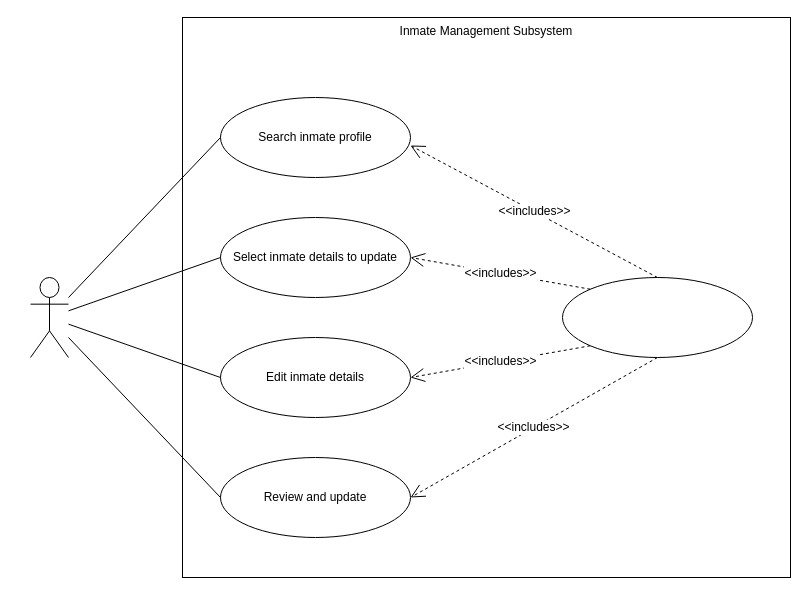
Some shapes in this 808 by 595 pixel diagram are drawn without their labels. Each missing label, with the box of its shape:
Correctional Officer: (30, 276, 68, 358)
Update inmate profile: (562, 276, 752, 358)
